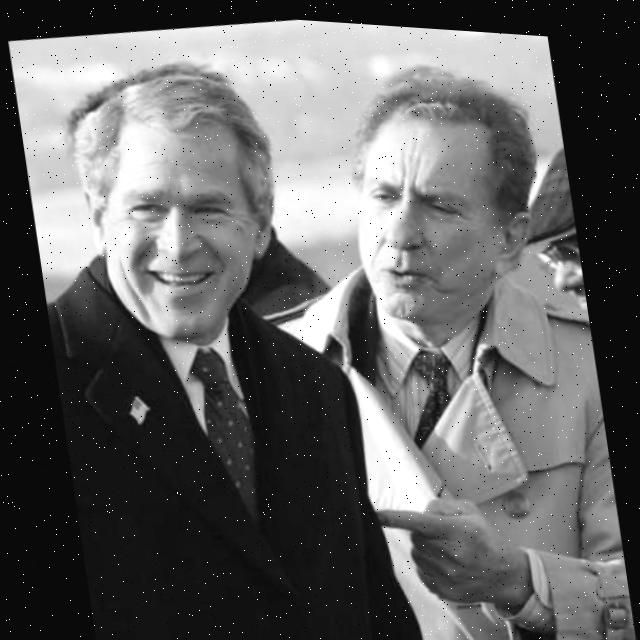face: (60, 85, 310, 360), (335, 84, 564, 327)
